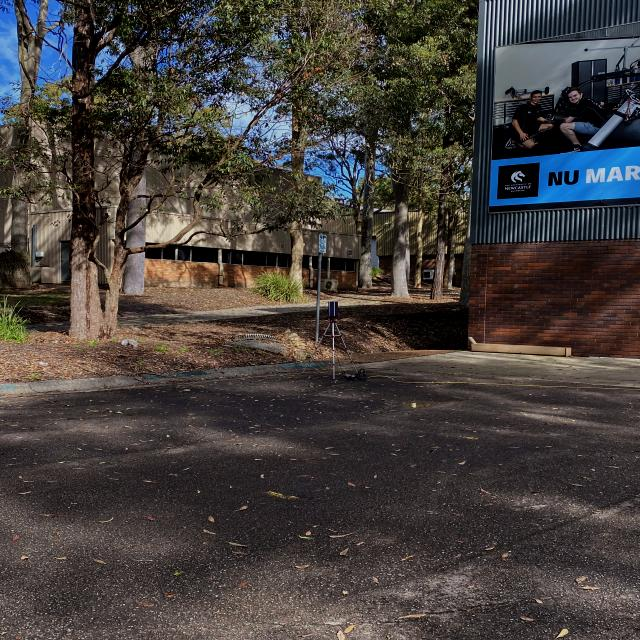matrix: (326, 298, 346, 322)
